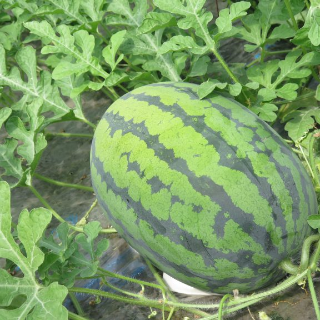dua_hau: (89, 80, 314, 297)
